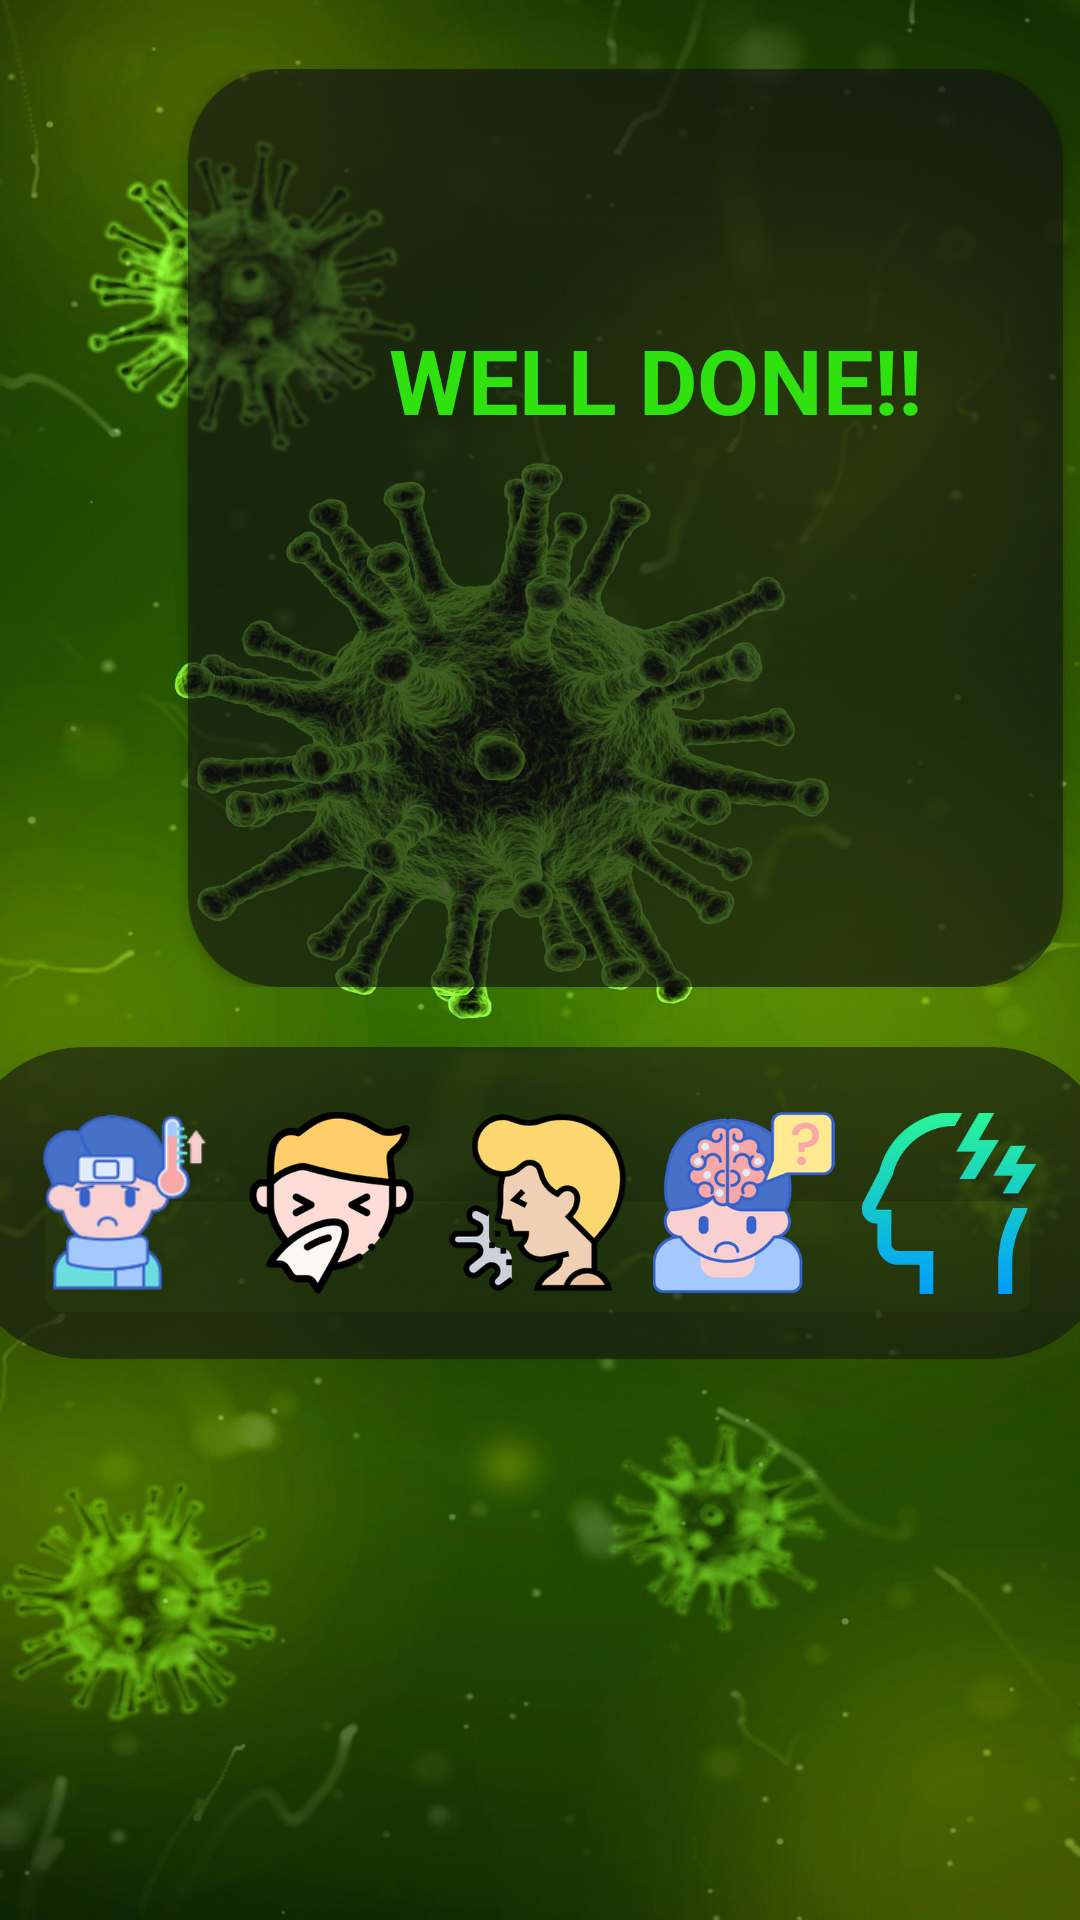

Named icons in this screenshot (1080×1920) and their centers, point (x, y):
alzheimer: point (744, 1194)
cough: point (537, 1202)
fever: point (126, 1203)
headache: point (948, 1203)
sneeze: point (331, 1203)
